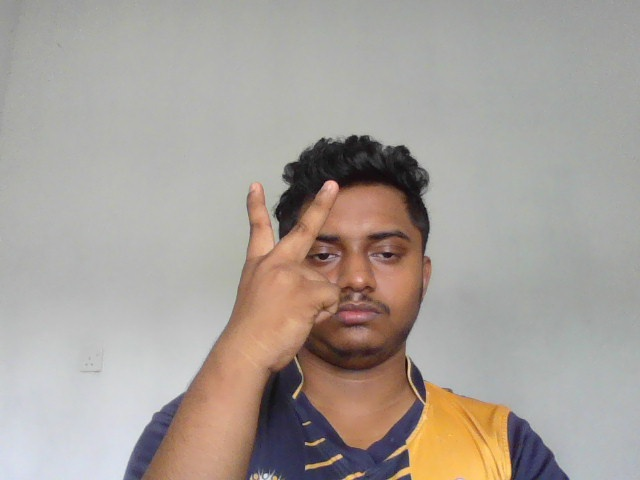See You: (226, 178, 343, 380)
